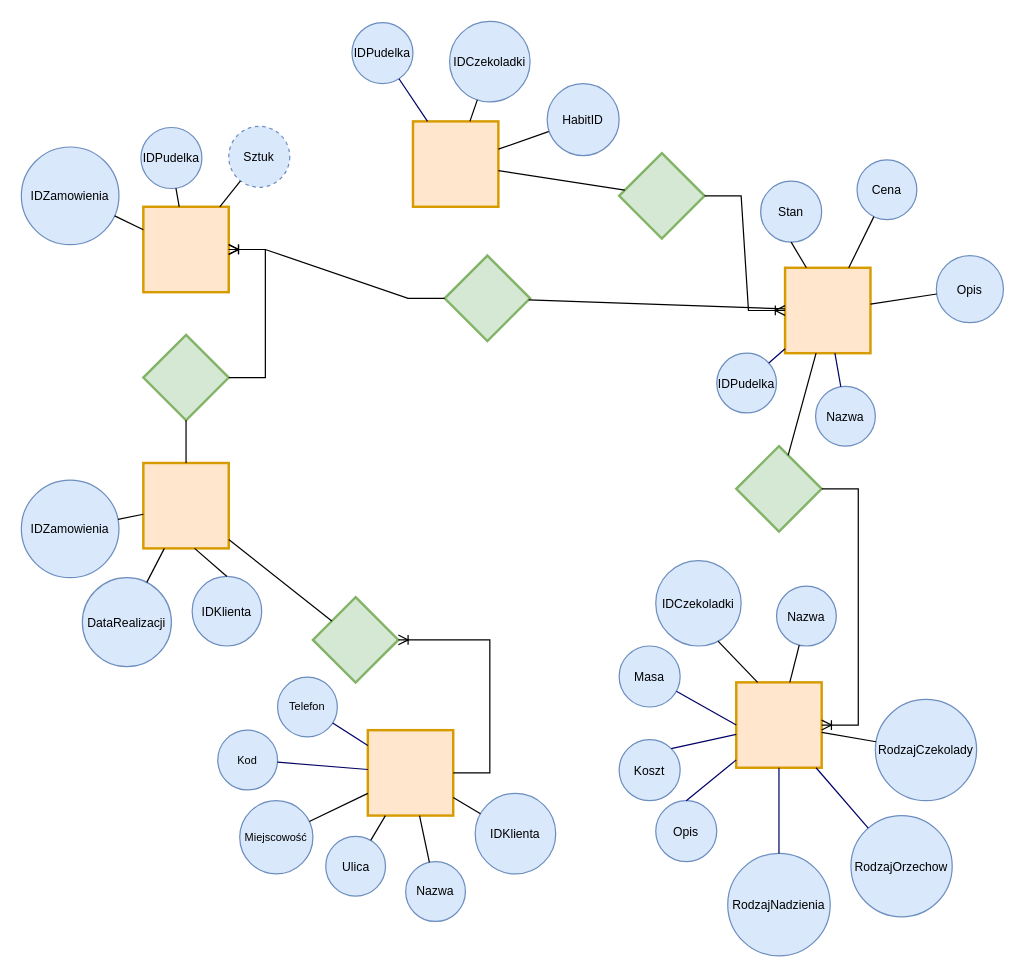
Some shapes in this 1025 by 977 pixel diagram are drawn without their labels. Here are the shapes that lost their labels. From the top down, the box of each, then its label:
(411, 120, 499, 207): Zawartość
(142, 205, 229, 293): Artykuły
(783, 266, 871, 354): Pudelka
(142, 461, 229, 549): Zamówienia
(734, 681, 822, 768): Czekoladki
(366, 728, 454, 816): Klienci
